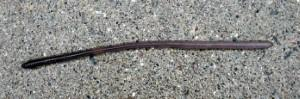earthworms: (19, 37, 287, 79)
